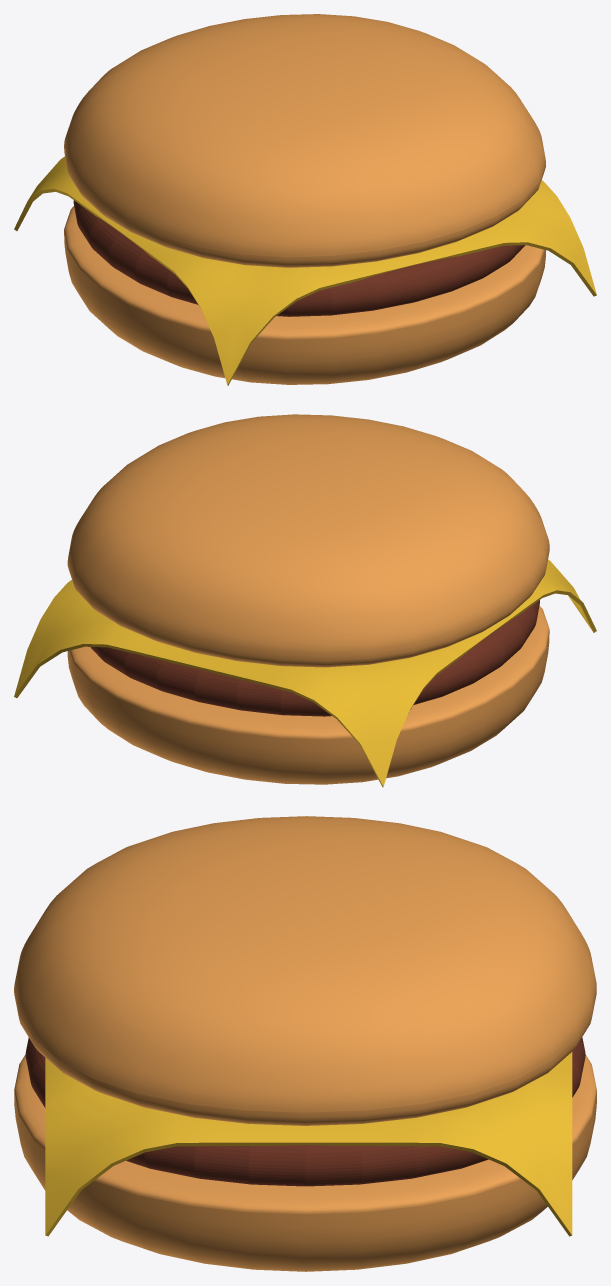
File: hamburger.glb
3 views of the same model, one above another, from view 1: azimuth 30°, elevation 25°; view 2: azimuth 150°, elevation 25°; view 3: azimuth 270°, elevation 25° (orthographic). The views are drawn at different scales.
Parts seen in each view (by area): view 1: Cube, Cube.001, Plane, Cube.002; view 2: Cube, Cube.001, Plane, Cube.002; view 3: Cube, Cube.001, Plane, Cube.002.
Part boxes in pixels (left/top/right/bottom): Cube: left=64, top=14, right=545, bottom=267; Cube.001: left=64, top=206, right=545, bottom=384; Plane: left=14, top=156, right=596, bottom=385; Cube.002: left=73, top=200, right=525, bottom=316; Cube: left=67, top=414, right=549, bottom=667; Cube.001: left=67, top=605, right=549, bottom=784; Plane: left=14, top=559, right=596, bottom=787; Cube.002: left=90, top=600, right=539, bottom=716; Cube: left=14, top=816, right=596, bottom=1125; Cube.001: left=14, top=1054, right=596, bottom=1271; Plane: left=45, top=1052, right=572, bottom=1236; Cube.002: left=25, top=1037, right=585, bottom=1186.
Bounding box in the file's own units: 3.66 × 2.16 × 3.66.
